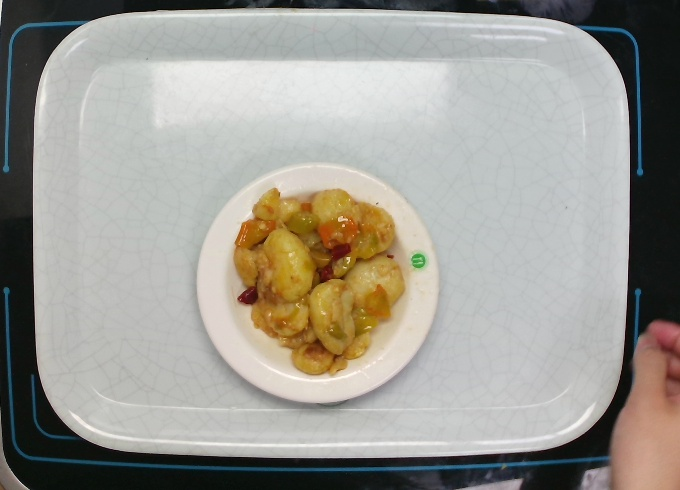WCQzf-Kuan_Bian_Yuan_Die: (194, 158, 439, 405)
